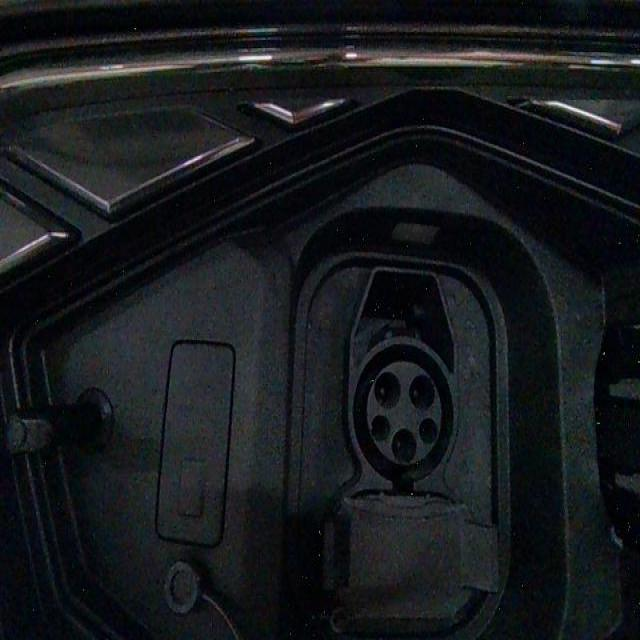Type 1: (335, 341, 462, 483)
